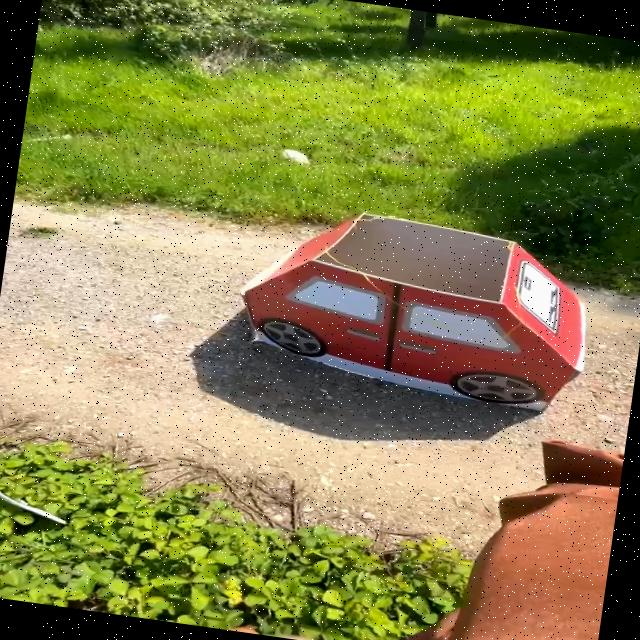red_car: (208, 185, 621, 429)
